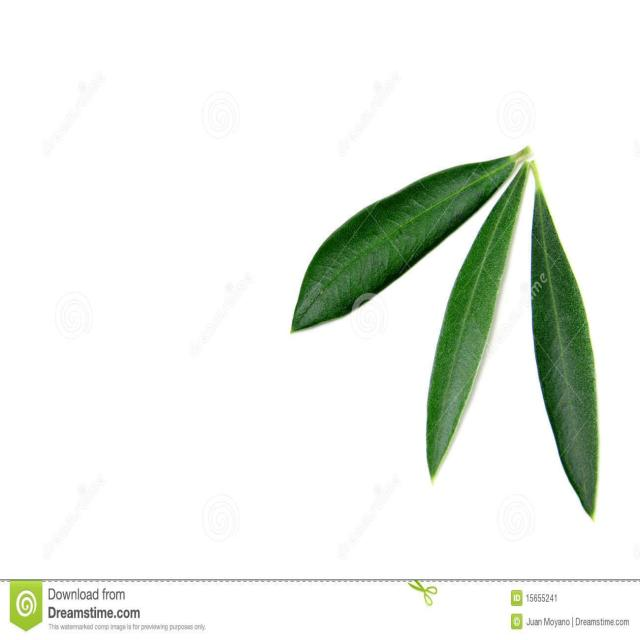Healthy: (291, 156, 515, 332), (427, 167, 528, 476), (531, 193, 598, 517)
